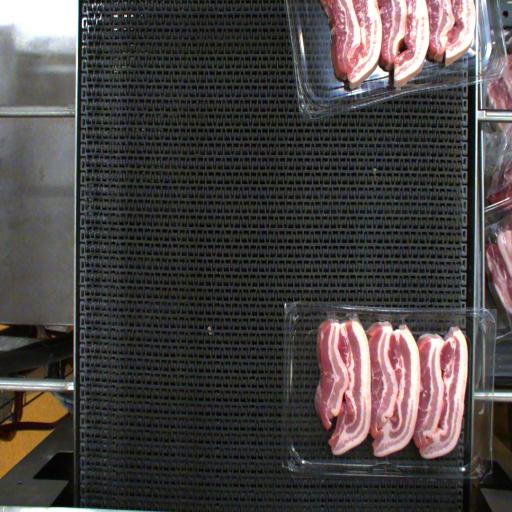packaging-error: (318, 303, 356, 326), (375, 306, 408, 331)
